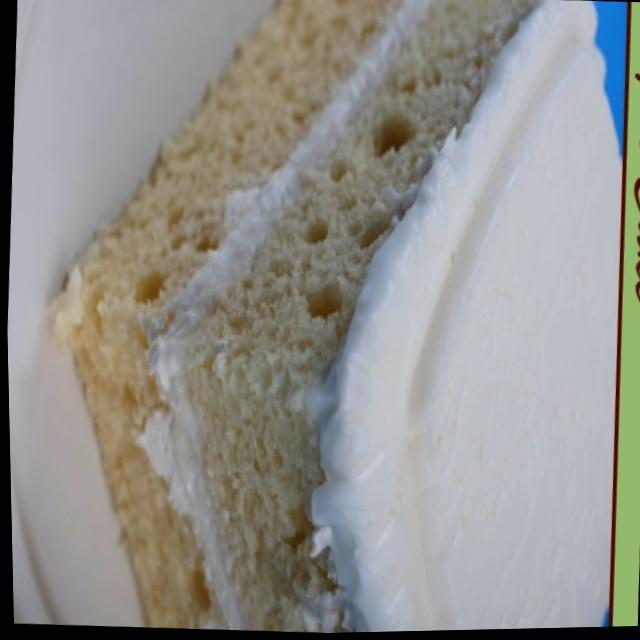蛋糕甜品: (0, 0, 636, 640)
